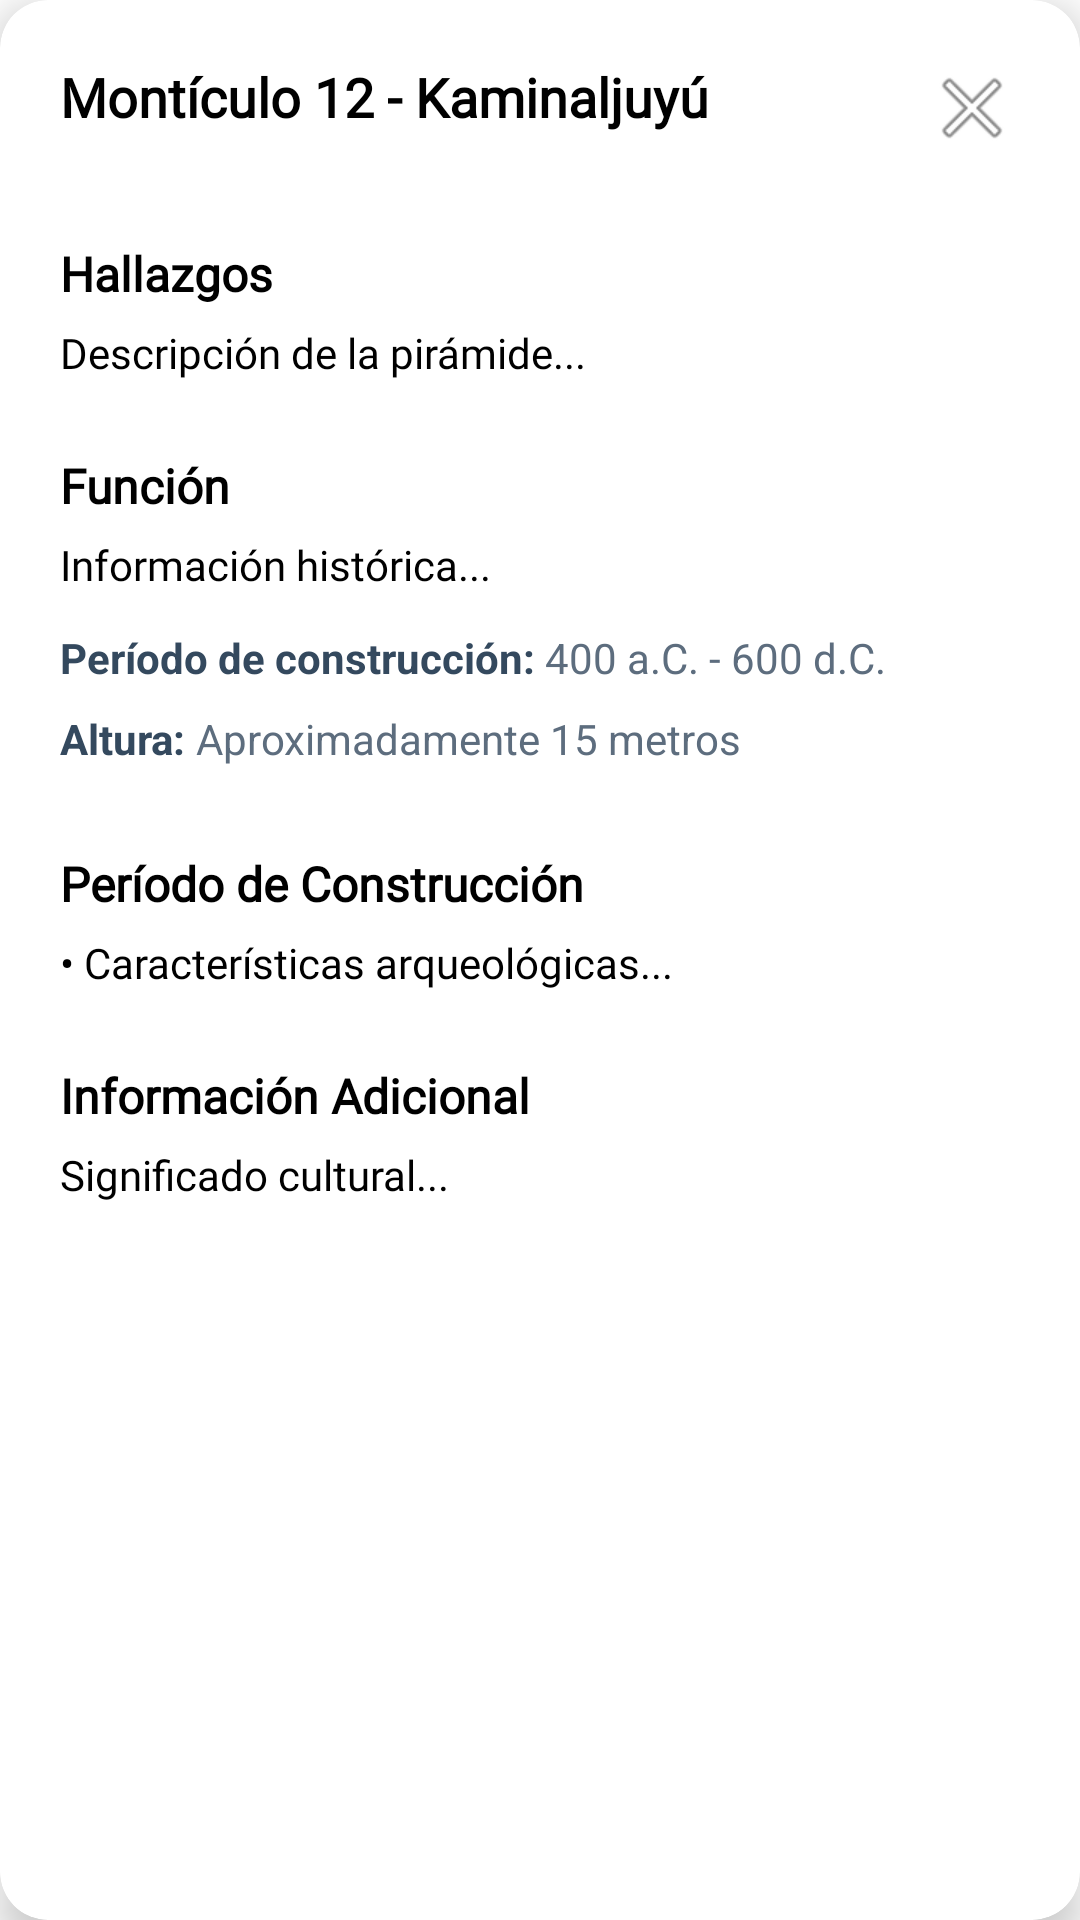

Where icons sit on this 1080×1920 app screen, as (x1, y1, x2, y2):
Cerrar: (942, 78, 1002, 138)
